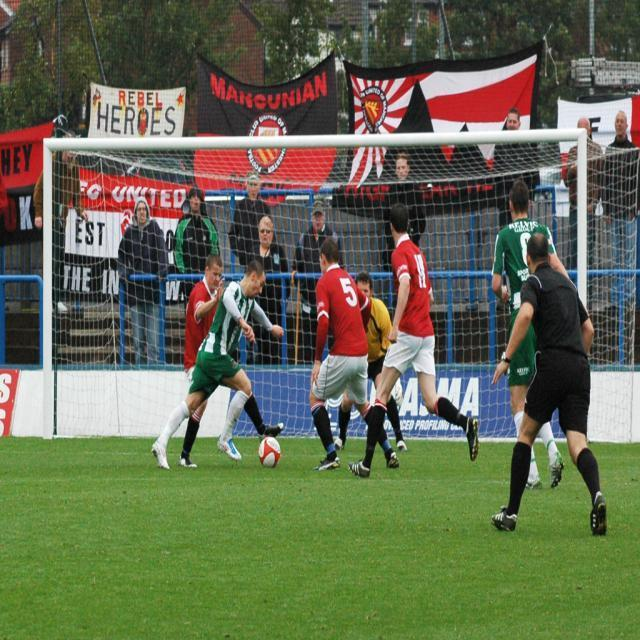football: (256, 428, 287, 478)
